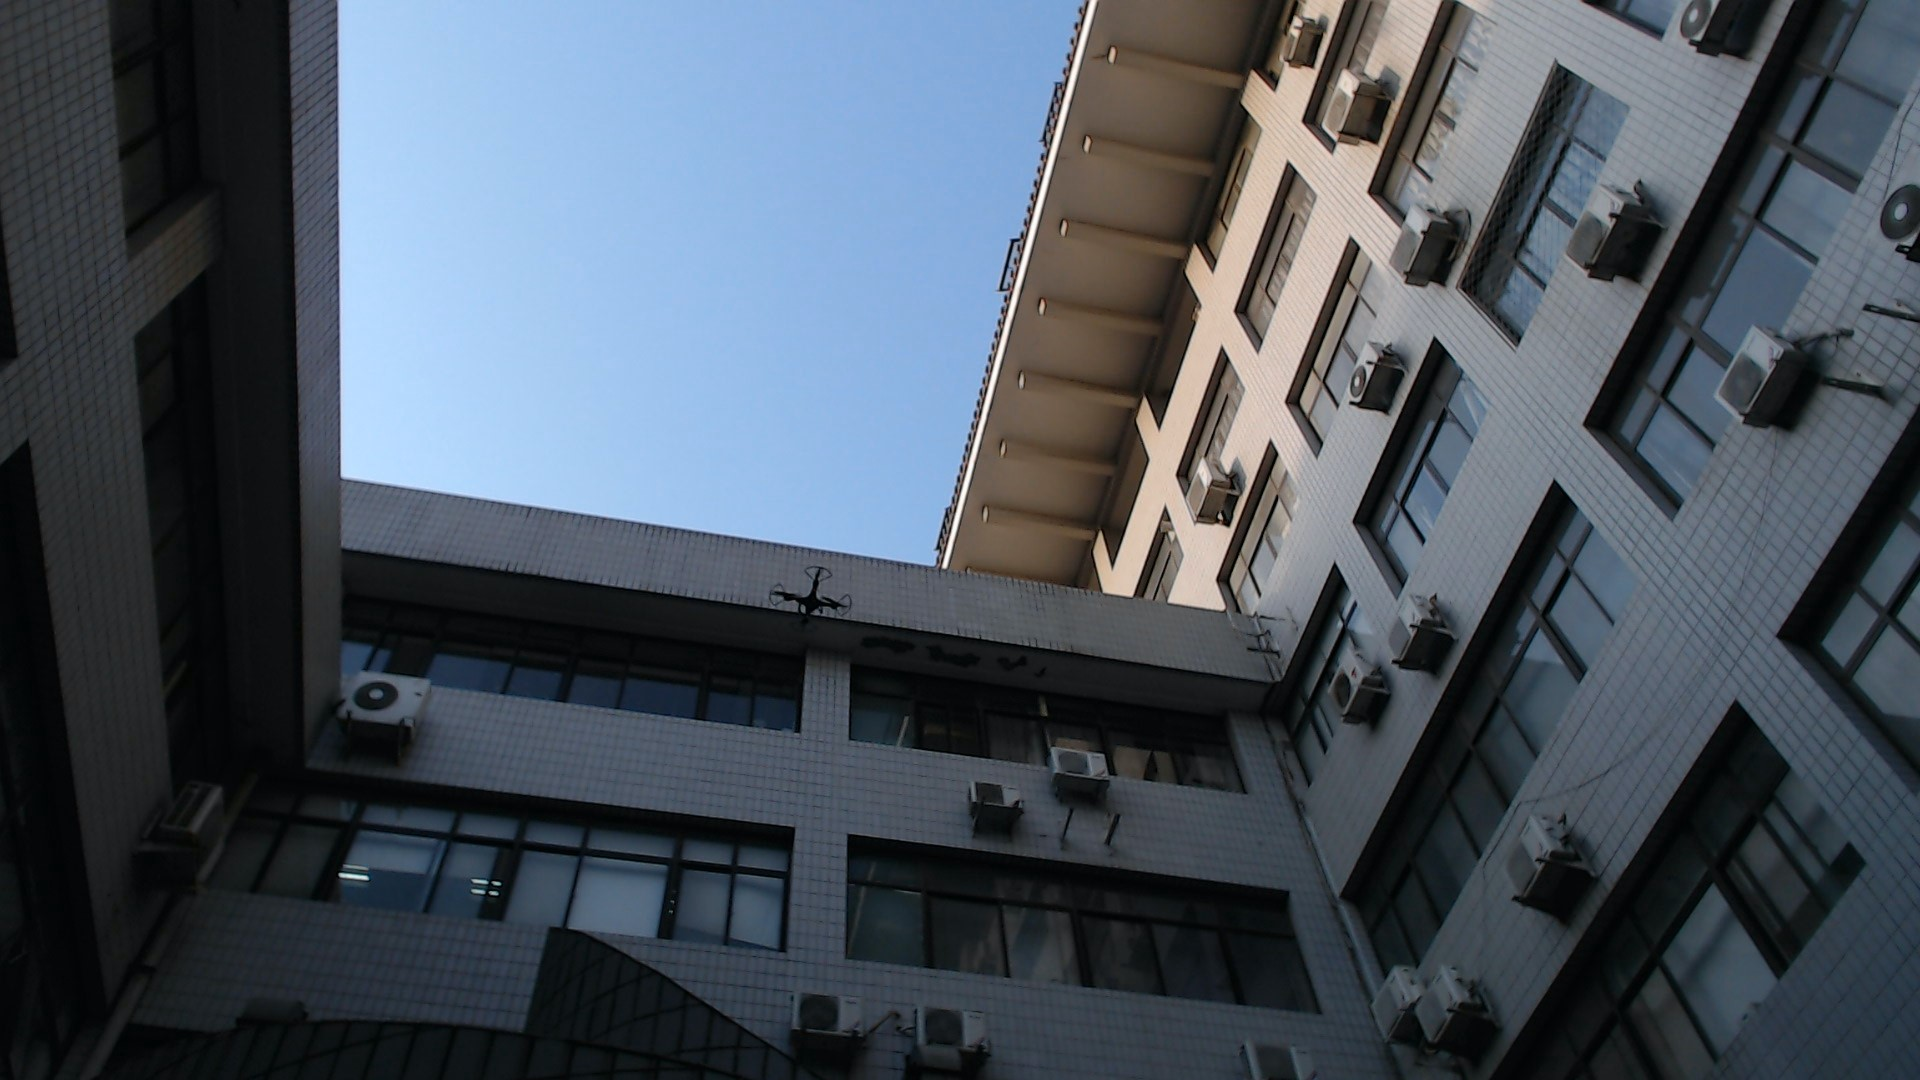drone: (753, 553, 872, 651)
